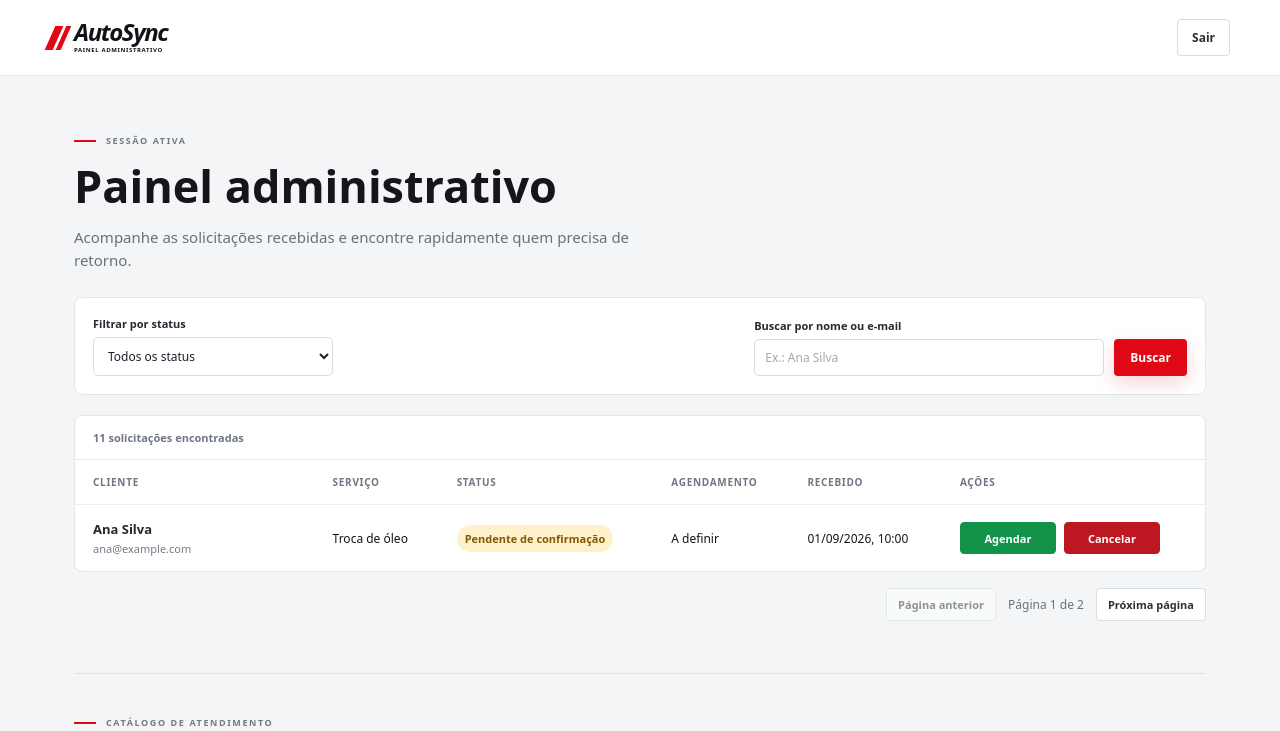
Test: administrator can retry an attendance start after a premature-start error
Expected: the text "Ana Silva" is shown, 93,520 -> 152,538
Type "João" into the field labelled "Buscar por nome ou e-mail".
click(929, 358); type("João")  # box 754,339 -> 1104,376
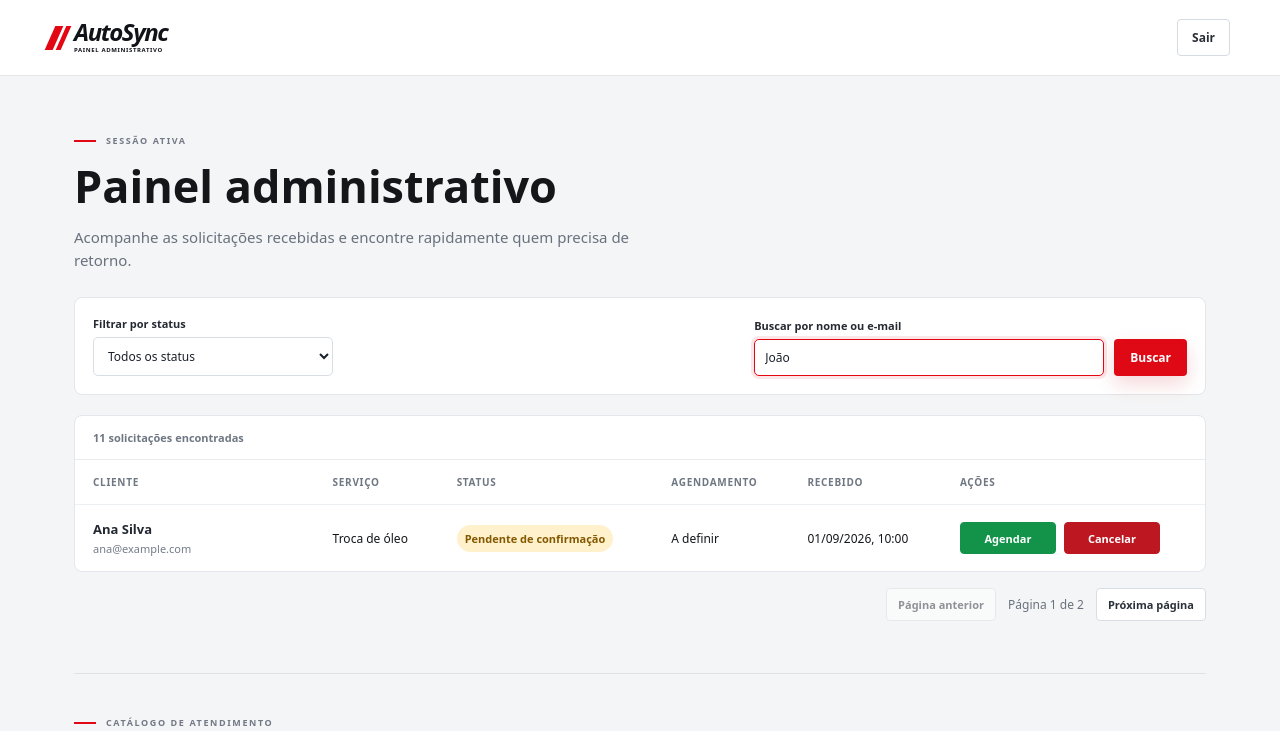
Click the button "Buscar".
click(1151, 358)  # box 1114,339 -> 1187,376
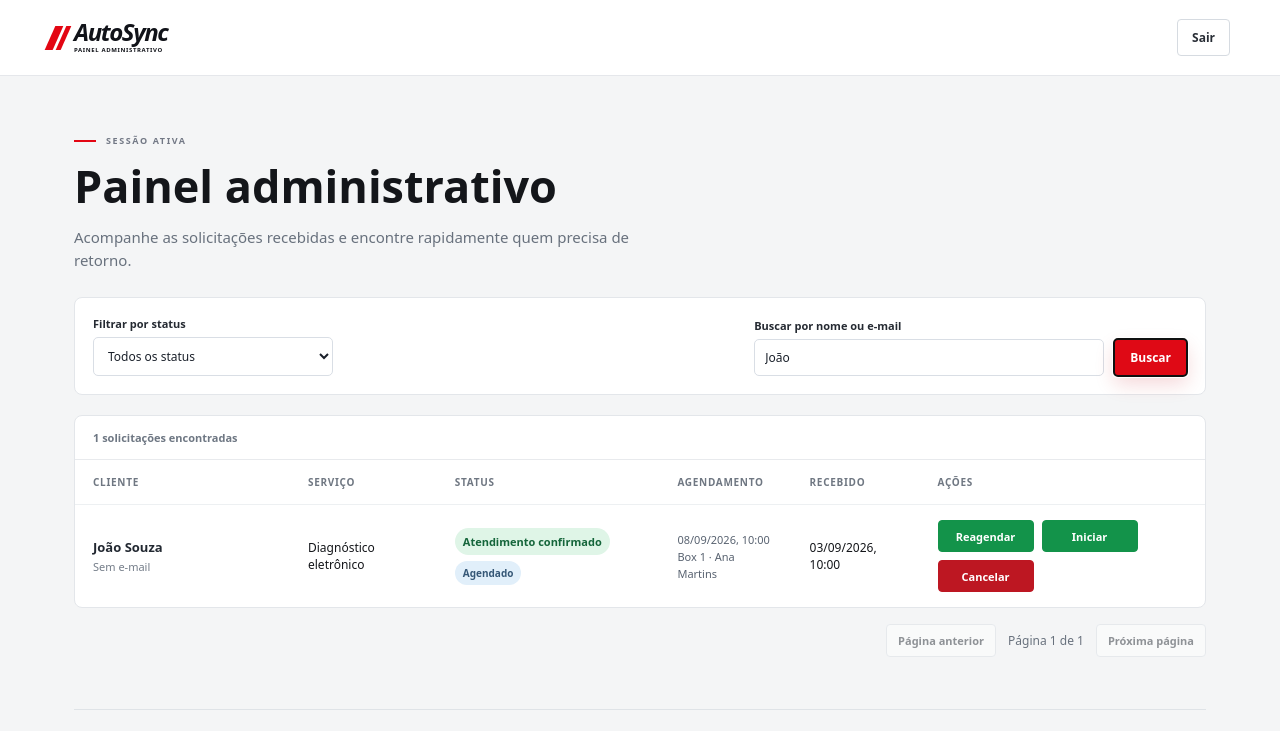
Expected: the text "João Souza" is shown, 93,538 -> 163,556
Click the button with aria-label "Iniciar atendimento de João Souza".
click(1090, 536)  # box 1042,520 -> 1138,552
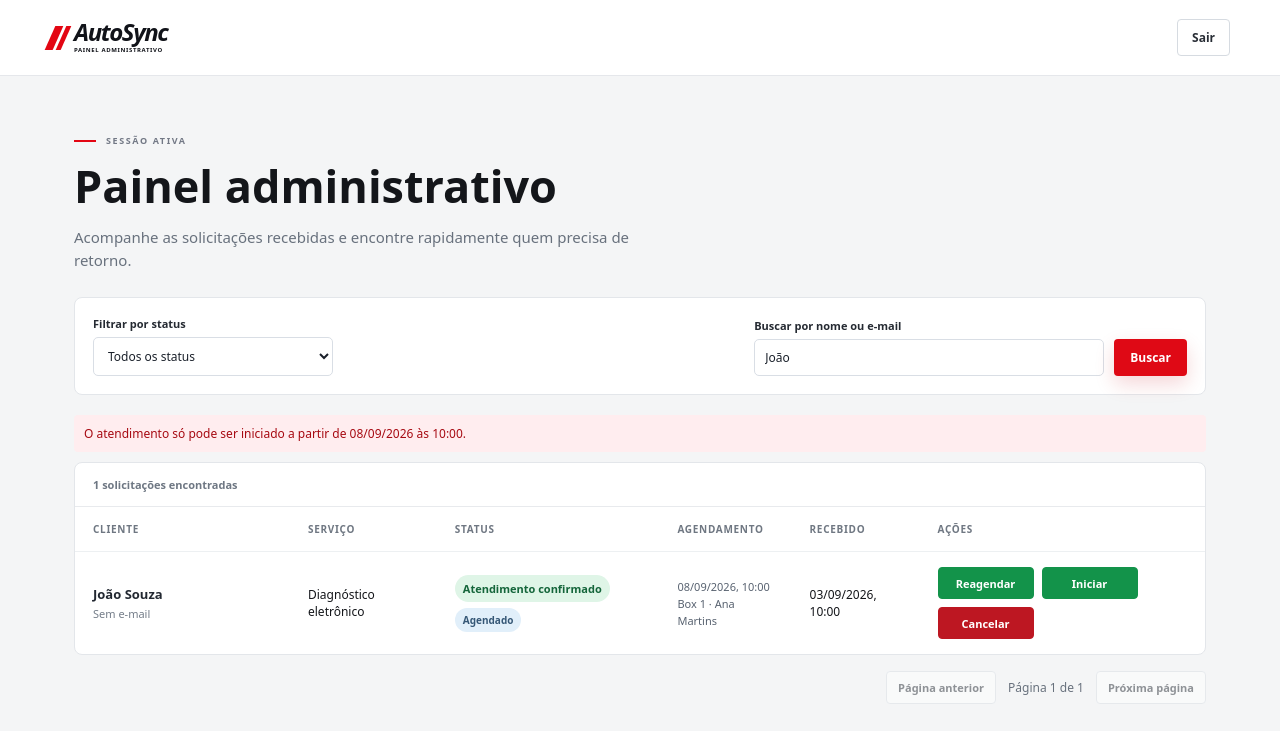
Expected: the button with aria-label "Iniciar atendimento de João Souza" is enabled
Expected: the message reads "O atendimento só pode ser iniciado a partir de 08/09/2026 às 10:00.", 84,425 -> 466,442
Click the button with aria-label "Iniciar atendimento de João Souza".
click(1090, 583)  # box 1042,567 -> 1138,599
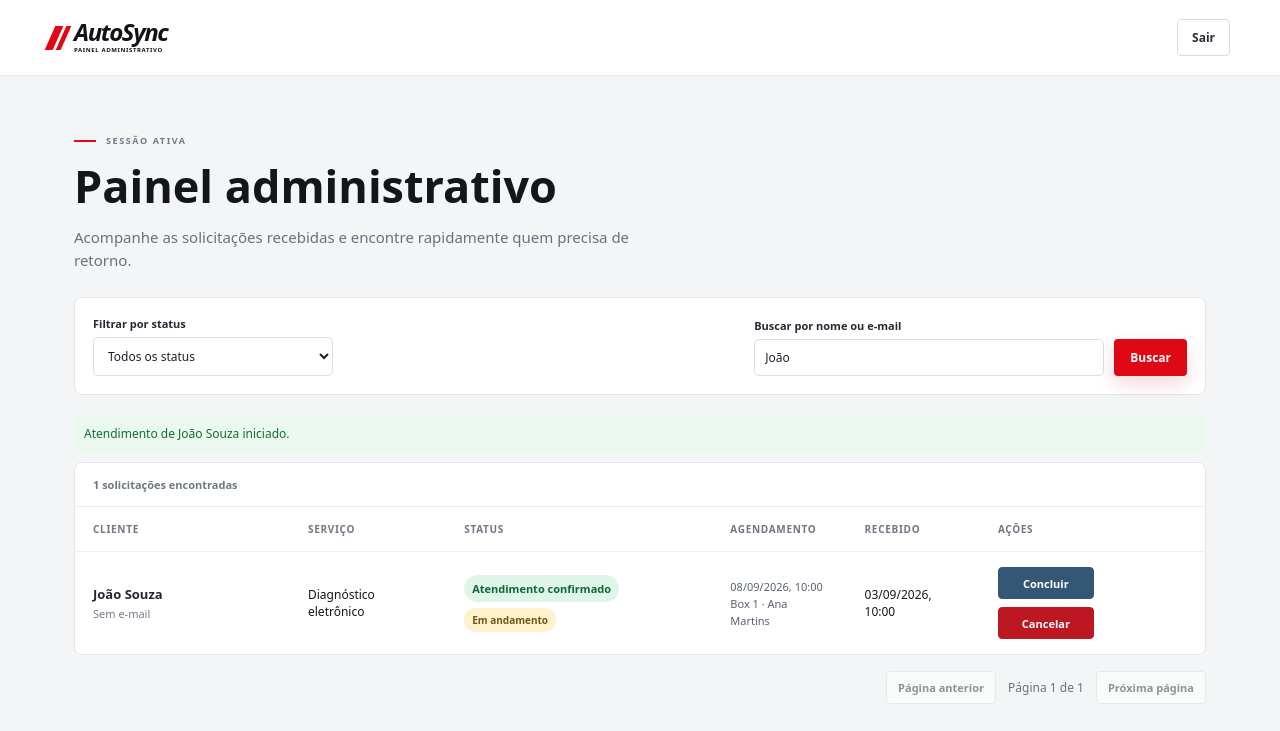
Expected: the message reads "Atendimento de João Souza iniciado.", 84,425 -> 290,442
